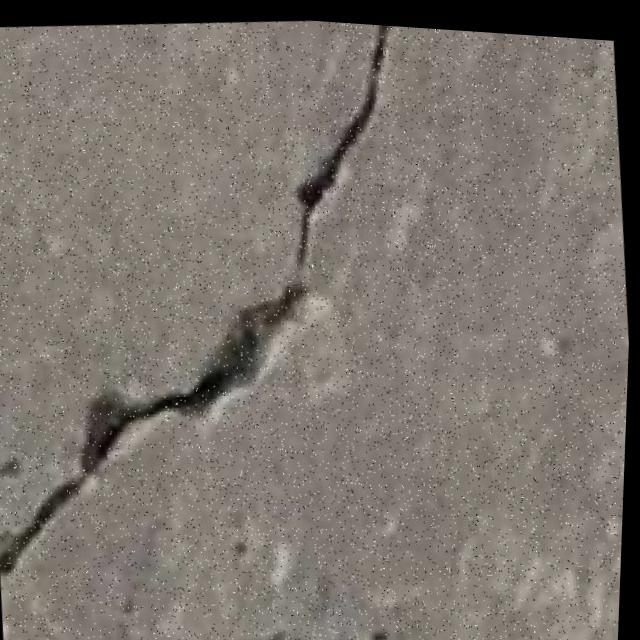Crack: (0, 0, 455, 615)
